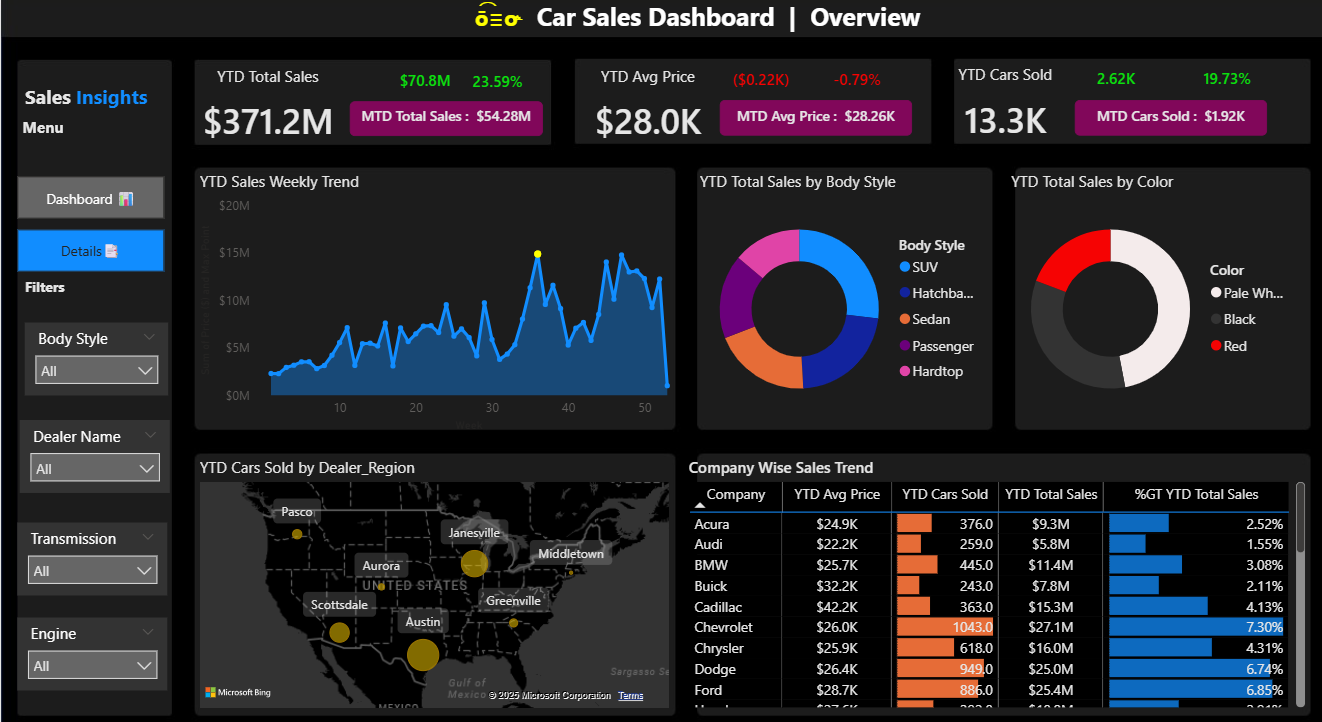

The page's visual inventory and layout, read from the dashboard file:
{"tool":"powerbi","page":{"name":"Dashboard 📊","canvas":[1280,720],"ordinal":0},"visuals":[{"type":"card","title":"YTD Total Sales","fields":{"Values":["car_data.YTD Total Sales"]},"box":[167.5,67.5,180,88.8],"z":0},{"type":"card","fields":{"Values":["car_data.Sales Difference"]},"box":[356.2,66.2,107.5,36.2],"z":1000},{"type":"card","fields":{"Values":["car_data.YOY Sales Growth"]},"box":[426.2,67.5,107.5,36.2],"z":2000},{"type":"card","fields":{"Values":["car_data.MTD KPI"]},"box":[336.2,102.5,186.2,33.8],"z":3000},{"type":"card","title":"YTD Avg Price","fields":{"Values":["car_data.YTD Avg Price"]},"box":[534.4,67.8,180,88.9],"z":4000},{"type":"card","fields":{"Values":["car_data.Avg Price Diff"]},"box":[680,66.7,106.7,35.6],"z":5000},{"type":"card","fields":{"Values":["car_data.YOY Avg Price Growth"]},"box":[773.3,66.7,106.7,35.6],"z":6000},{"type":"card","fields":{"Values":["car_data.MTD Avg Price KPI"]},"box":[693.3,101.1,185.6,34.4],"z":7000},{"type":"card","title":"YTD Cars Sold","fields":{"Values":["car_data.YTD Cars Sold"]},"box":[880,66.7,180,88.9],"z":8000},{"type":"card","fields":{"Values":["car_data.cars Sold Diff"]},"box":[1023.3,65.6,106.7,35.6],"z":9000},{"type":"card","fields":{"Values":["car_data.YOY Cars Sold Growth"]},"box":[1130,65.6,106.7,35.6],"z":10000},{"type":"card","fields":{"Values":["car_data.MTD Cars Sold KPI"]},"box":[1036.7,101.1,185.6,34.4],"z":11000},{"type":"areaChart","title":"YTD Sales Weekly Trend","fields":{"Category":["Calendar Table.Week"],"Y":["Sum(car_data.Price ($))","car_data.Max Point"]},"box":[187.5,168.8,471.2,257.5],"z":12000},{"type":"donutChart","fields":{"Category":["car_data.Body Style"],"Y":["car_data.YTD Total Sales"]},"box":[670,168.8,285,248.8],"z":13000},{"type":"donutChart","fields":{"Y":["car_data.YTD Total Sales"],"Category":["car_data.Color"]},"box":[970,168.8,285,248.8],"z":14000},{"type":"map","fields":{"Category":["car_data.Dealer_Region"],"Size":["car_data.YTD Cars Sold"]},"box":[187.5,445,462.5,247.5],"z":15000},{"type":"tableEx","title":"Company Wise Sales Trend","fields":{"Values":["car_data.Company","car_data.YTD Avg Price","car_data.YTD Cars Sold","car_data.YTD Total Sales1","car_data.YTD Total Sales"]},"box":[658.8,445,605,247.5],"z":16000},{"type":"textbox","box":[416.2,0,512.5,51.2],"z":17000},{"type":"slicer","fields":{"Values":["car_data.Body Style"]},"box":[22.5,316.2,138.8,70],"z":18000},{"type":"slicer","fields":{"Values":["car_data.Dealer_Name"]},"box":[17.5,410,145,70],"z":19000},{"type":"slicer","fields":{"Values":["car_data.Transmission"]},"box":[16.2,508.8,145,70],"z":20000},{"type":"slicer","fields":{"Values":["car_data.Engine"]},"box":[16.2,601.2,145,70],"z":21000},{"type":"textbox","box":[17.5,267.5,150,30],"z":22000},{"type":"pageNavigator","box":[16.2,175,142.5,92.5],"z":23000},{"type":"textbox","box":[17.5,81.2,150,43.8],"z":24000},{"type":"textbox","box":[16.2,112.5,137.5,36.2],"z":25000}]}

Visuals, with their boxes on the page's 1280x720 design canvas (x1, y1, x2, y2). These are canvas units, not pixel positions in the 1322x722 screenshot, which may show the page scaled, cropped or inside an application window:
"YTD Total Sales" card: l=168, t=68, r=348, b=156
card - car_data.Sales Difference: l=356, t=66, r=464, b=102
card - car_data.YOY Sales Growth: l=426, t=68, r=534, b=104
card - car_data.MTD KPI: l=336, t=102, r=522, b=136
"YTD Avg Price" card: l=534, t=68, r=714, b=157
card - car_data.Avg Price Diff: l=680, t=67, r=787, b=102
card - car_data.YOY Avg Price Growth: l=773, t=67, r=880, b=102
card - car_data.MTD Avg Price KPI: l=693, t=101, r=879, b=136
"YTD Cars Sold" card: l=880, t=67, r=1060, b=156
card - car_data.cars Sold Diff: l=1023, t=66, r=1130, b=101
card - car_data.YOY Cars Sold Growth: l=1130, t=66, r=1237, b=101
card - car_data.MTD Cars Sold KPI: l=1037, t=101, r=1222, b=136
"YTD Sales Weekly Trend" areaChart: l=188, t=169, r=659, b=426
donutChart - car_data.Body Style x car_data.YTD Total Sales: l=670, t=169, r=955, b=418
donutChart - car_data.YTD Total Sales x car_data.Color: l=970, t=169, r=1255, b=418
map - car_data.Dealer_Region x car_data.YTD Cars Sold: l=188, t=445, r=650, b=692
"Company Wise Sales Trend" tableEx: l=659, t=445, r=1264, b=692
textbox: l=416, t=0, r=929, b=51
slicer - car_data.Body Style: l=22, t=316, r=161, b=386
slicer - car_data.Dealer_Name: l=18, t=410, r=162, b=480
slicer - car_data.Transmission: l=16, t=509, r=161, b=579
slicer - car_data.Engine: l=16, t=601, r=161, b=671
textbox: l=18, t=268, r=168, b=298
pageNavigator: l=16, t=175, r=159, b=268
textbox: l=18, t=81, r=168, b=125
textbox: l=16, t=112, r=154, b=149
